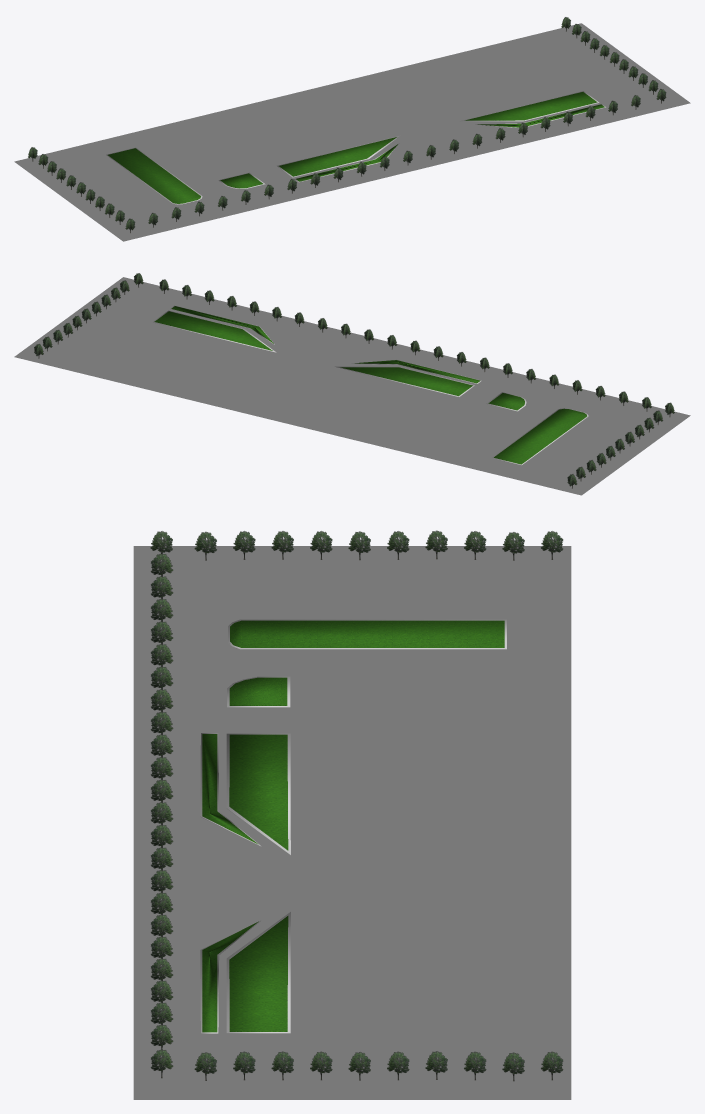
The model's file is ob_0f_mini.gltf.
3 views of the same model, one above another, from view 1: azimuth 30°, elevation 25°; view 2: azimuth 150°, elevation 25°; view 3: azimuth 270°, elevation 25° (orthographic). The views are drawn at different scales.
Visible parts, largest first — view 1: dimian_1, dimian_5, dimian_97, dimian_2, dimian_4, dimian_99, dimian_98, dimian_3, dimian_6; view 2: dimian_1, dimian_5, dimian_2, dimian_97, dimian_3, dimian_98, dimian_6, dimian_4, dimian_99; view 3: dimian_1, dimian_5, dimian_2, dimian_97, dimian_98, dimian_3, dimian_4, dimian_95, dimian_6, dimian_99.
Boxes of the visible parts, box(x1,y1,x2,y2) form: dimian_1: box(14, 23, 690, 241); dimian_5: box(108, 148, 200, 203); dimian_97: box(465, 92, 597, 120); dimian_2: box(279, 137, 396, 176); dimian_4: box(220, 173, 262, 188); dimian_99: box(460, 91, 599, 121); dimian_98: box(477, 104, 604, 127); dimian_3: box(296, 144, 397, 181); dimian_6: box(277, 135, 400, 177); dimian_1: box(14, 277, 690, 495); dimian_5: box(494, 408, 586, 464); dimian_2: box(340, 367, 472, 396); dimian_97: box(154, 311, 272, 350); dimian_3: box(355, 360, 480, 383); dimian_98: box(171, 306, 273, 343); dimian_6: box(335, 366, 474, 396); dimian_4: box(488, 393, 524, 410); dimian_99: box(152, 310, 276, 352); dimian_1: box(133, 546, 571, 1099); dimian_5: box(230, 620, 504, 647); dimian_2: box(229, 734, 288, 850); dimian_97: box(229, 916, 288, 1031); dimian_98: box(202, 921, 258, 1032); dimian_3: box(202, 734, 258, 844); dimian_4: box(229, 677, 287, 705); dimian_95: box(228, 619, 506, 649); dimian_6: box(226, 733, 290, 854); dimian_99: box(226, 912, 290, 1033).
Size of the model in its own units: 491 by 13.02 by 164.
8 materials, 5 textured.
